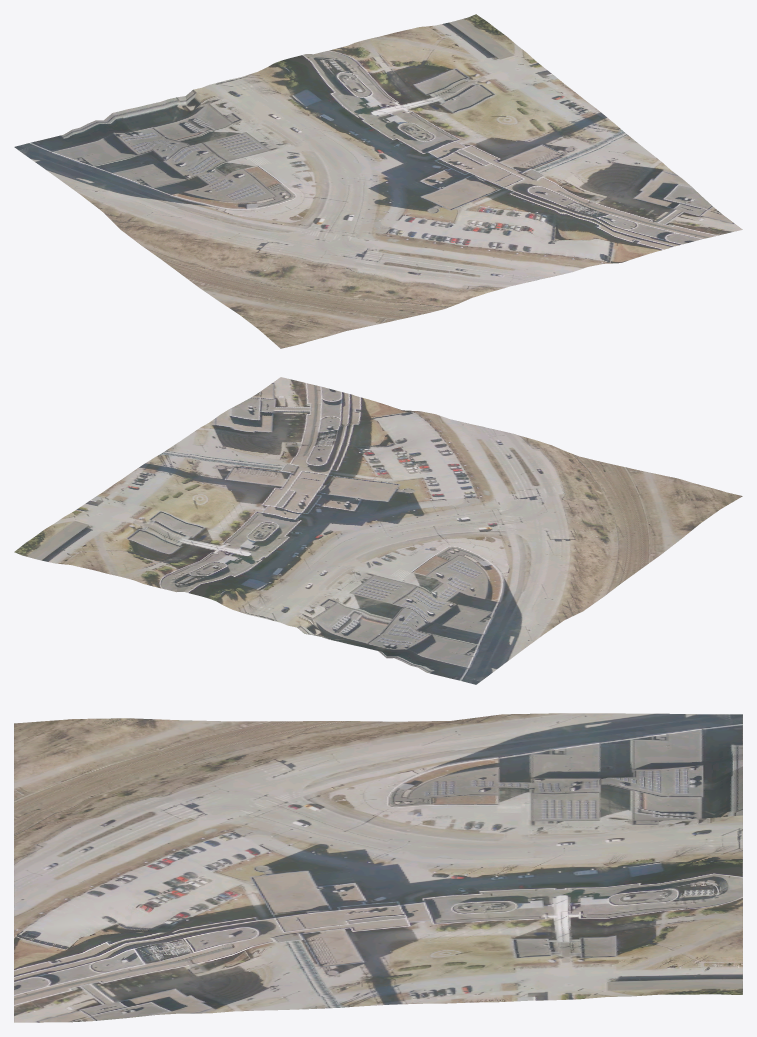
The model's file is CM_Terrain_24488001_6820408.fbx.
The picture shows the model from 3 angles, top to bottom: view 1: azimuth 30°, elevation 25°; view 2: azimuth 150°, elevation 25°; view 3: azimuth 270°, elevation 25°; orthographic projection. The views are drawn at different scales.
Parts seen in each view (by area): view 1: CM_Terrain_24488001_6820408_LOD0; view 2: CM_Terrain_24488001_6820408_LOD0; view 3: CM_Terrain_24488001_6820408_LOD0.
Part boxes in pixels (<box>): CM_Terrain_24488001_6820408_LOD0: <box>14,14,742,348</box>; CM_Terrain_24488001_6820408_LOD0: <box>14,377,742,684</box>; CM_Terrain_24488001_6820408_LOD0: <box>14,713,742,1022</box>.
Size of what is drawn, in the model's own units: 205 by 12.8 by 205.
